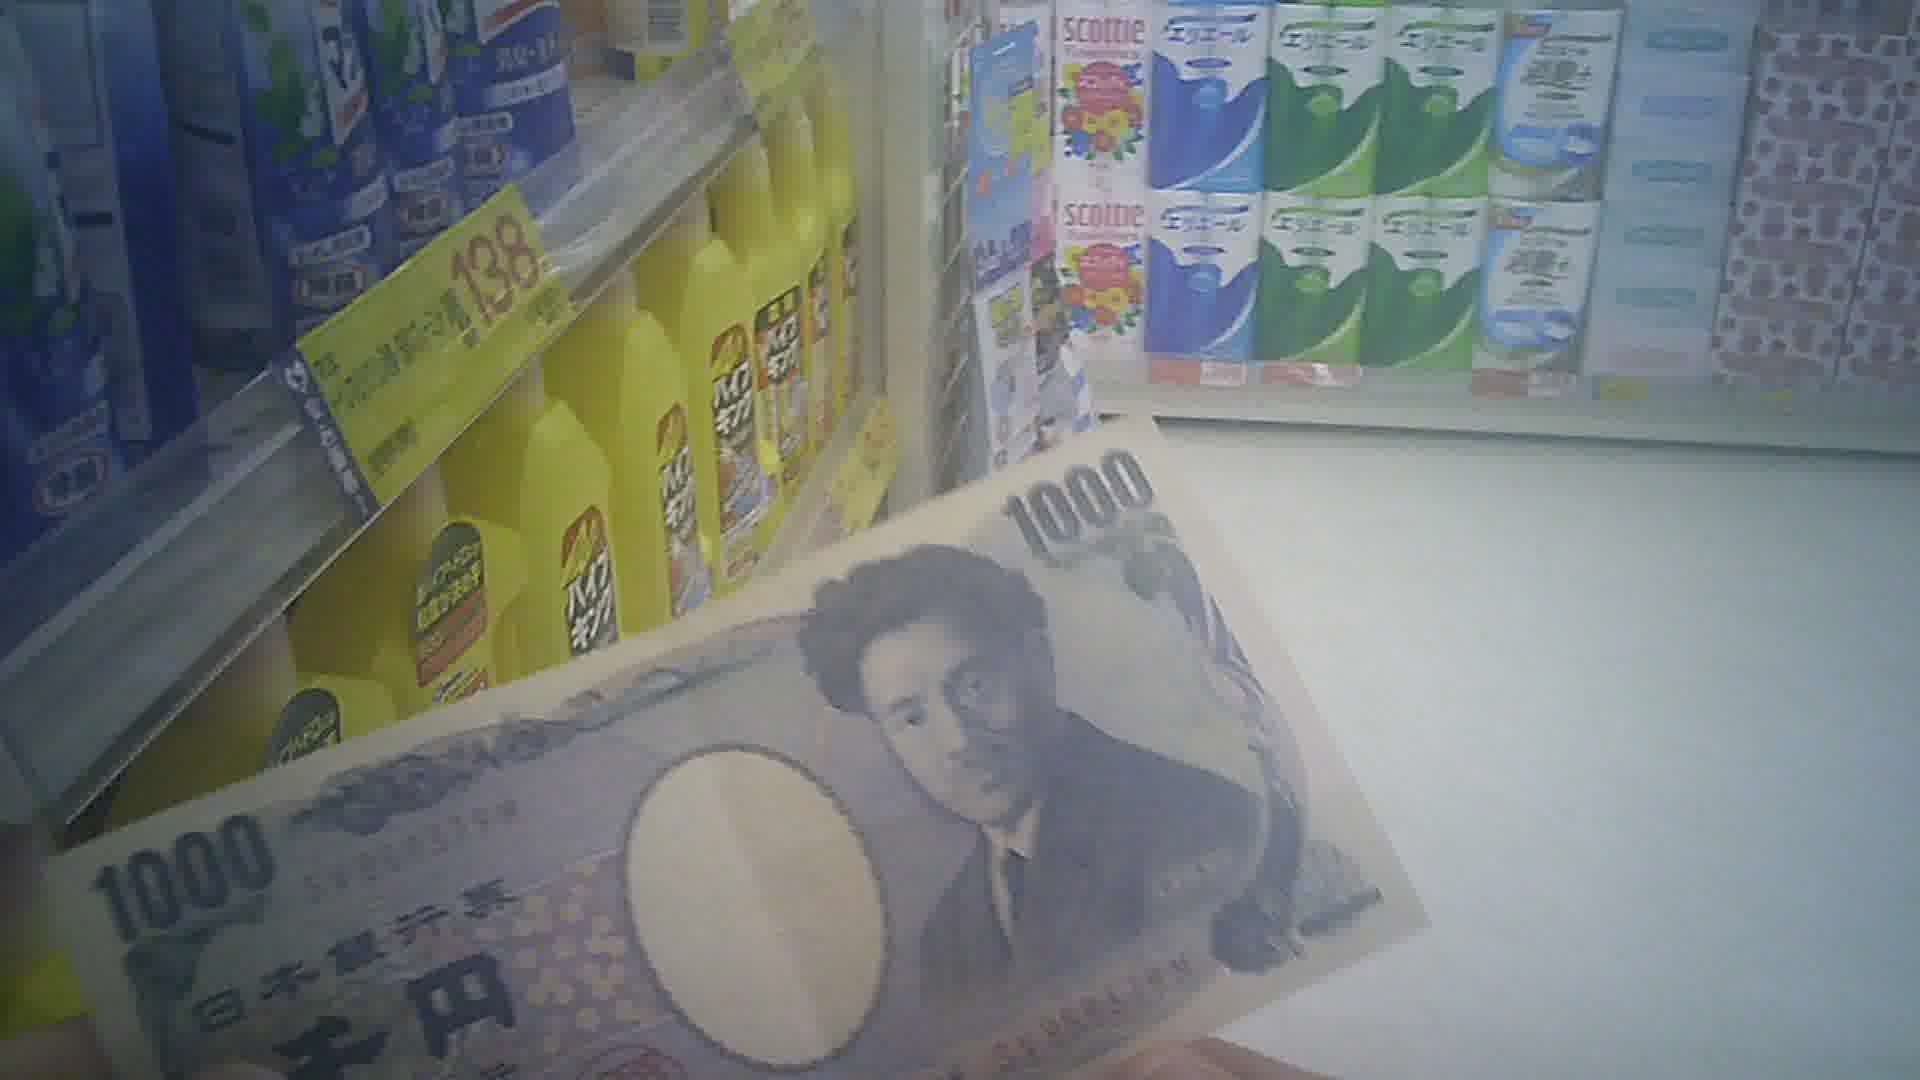1,000 Yen: (82, 415, 1437, 1077)
